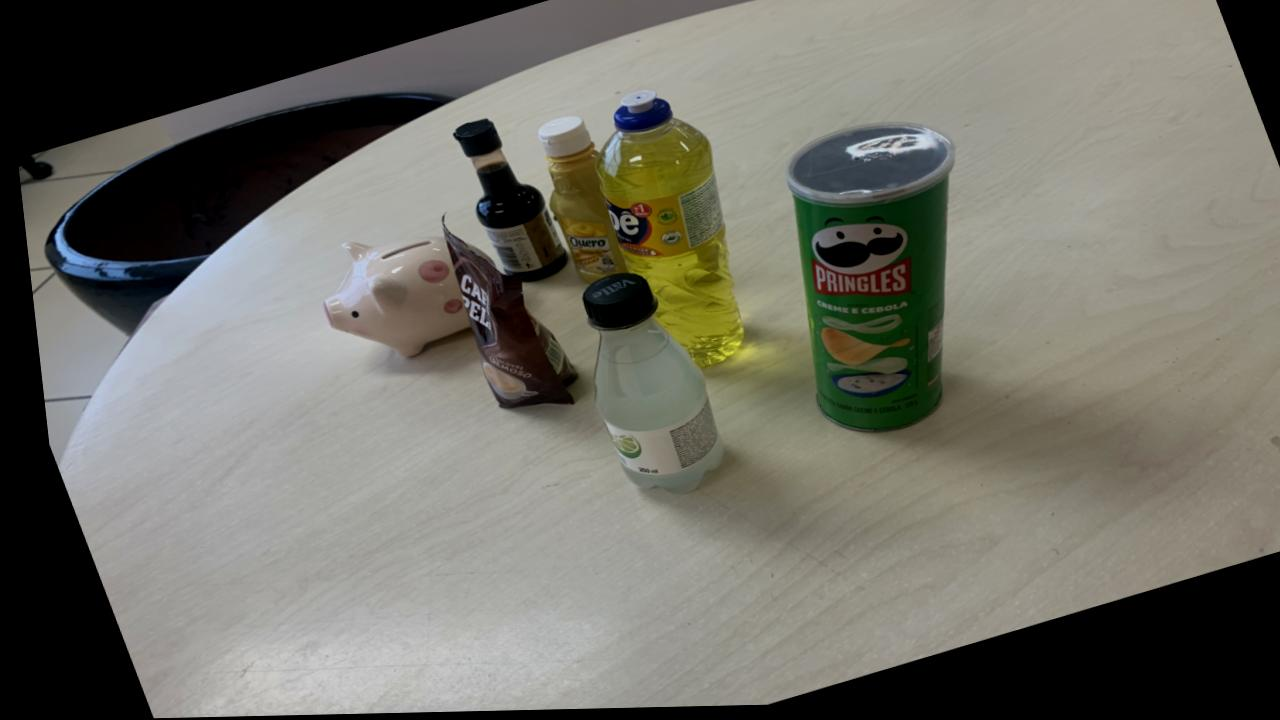Coffee-Pantry_Items: (437, 222, 568, 411)
Detergent-Cleanup_Items: (591, 93, 735, 370)
English_Sauce-Pantry_Items: (450, 121, 562, 284)
Mustard-Pantry_Items: (535, 118, 620, 285)
Pig_Safe-Miscellaneous: (316, 238, 462, 358)
Pringles-Snacks: (781, 126, 951, 435)
Soda-Drinks: (576, 276, 714, 496)
